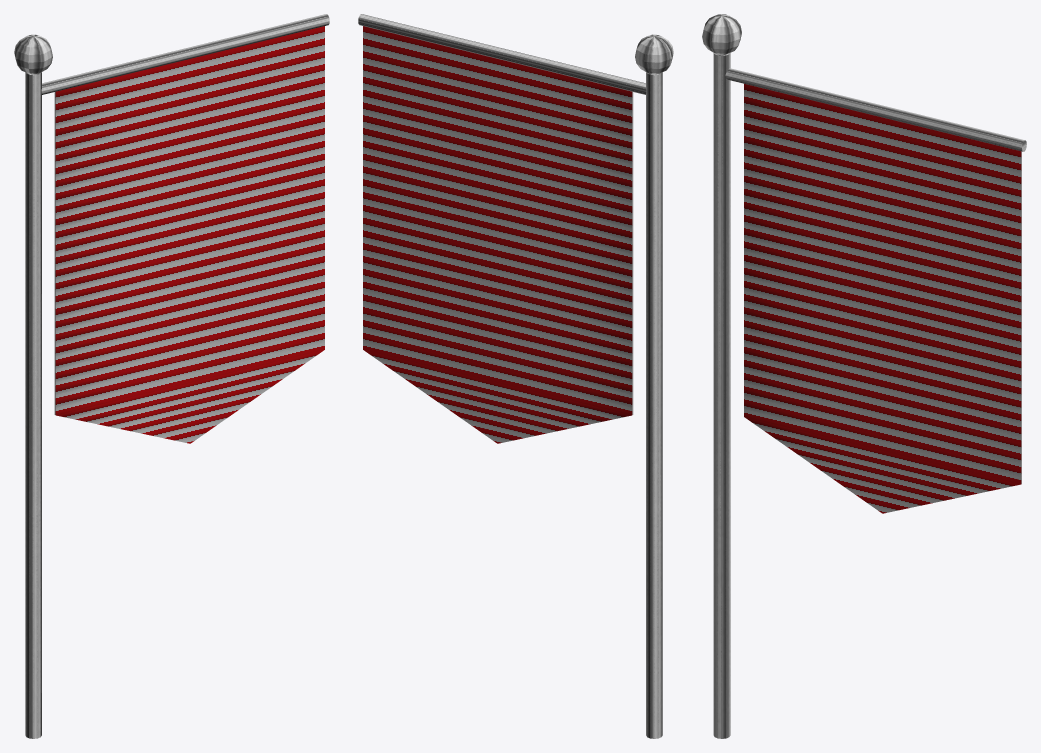
Rendered from Flag.fbx.
3 renders of one model, left to right at view 1: azimuth 30°, elevation 25°; view 2: azimuth 150°, elevation 25°; view 3: azimuth 330°, elevation 25°, orthographic. The views are drawn at different scales.
Visible parts, largest first — view 1: Flag, Mast1, Mast2, Sphere; view 2: Flag, Mast1, Mast2, Sphere; view 3: Flag, Mast1, Mast2, Sphere.
Part boxes in pixels (left/top/right/bottom): Flag: left=54, top=26, right=324, bottom=443; Mast1: left=25, top=72, right=41, bottom=738; Mast2: left=41, top=14, right=329, bottom=94; Sphere: left=14, top=34, right=52, bottom=74; Flag: left=363, top=26, right=633, bottom=443; Mast1: left=646, top=72, right=662, bottom=738; Mast2: left=358, top=14, right=646, bottom=94; Sphere: left=635, top=34, right=673, bottom=74; Flag: left=744, top=84, right=1021, bottom=513; Mast1: left=713, top=53, right=730, bottom=738; Mast2: left=725, top=68, right=1026, bottom=151; Sphere: left=702, top=14, right=741, bottom=54.
Size of the model in its own units: 1785 by 3831 by 200.
